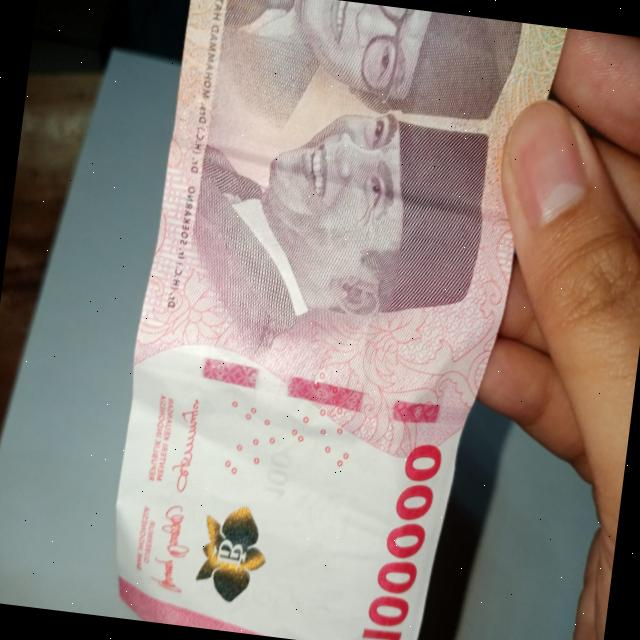100K: (96, 0, 574, 640)
